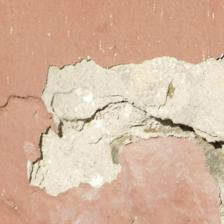Crack: (58, 99, 224, 149), (2, 90, 43, 114)
